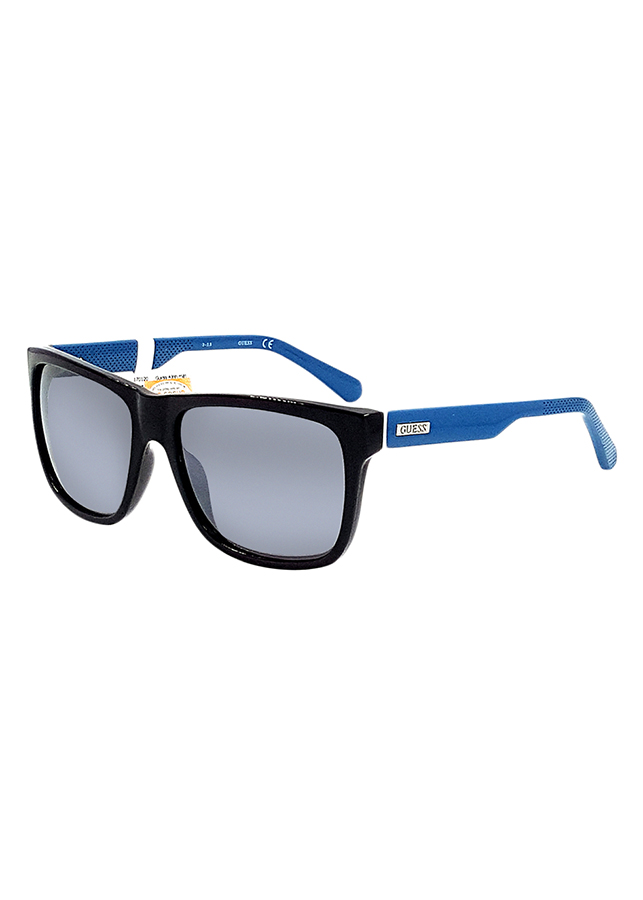Guess: (392, 414, 435, 439)
